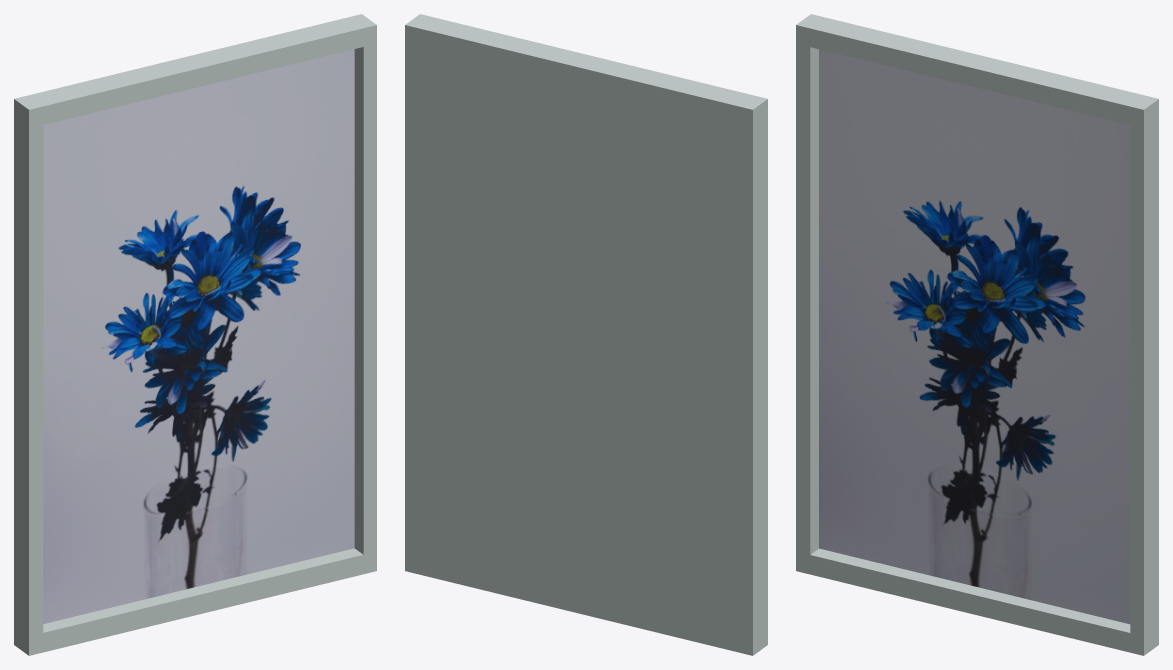
File: kikuno.glb
3 views of the same model, side by side, from view 1: azimuth 30°, elevation 25°; view 2: azimuth 150°, elevation 25°; view 3: azimuth 330°, elevation 25° (orthographic).
Visible parts, largest first — view 1: PAINTING; view 2: PAINTING; view 3: PAINTING.
Boxes of the visible parts, x1=… form: PAINTING: x1=14, y1=14, x2=376, y2=655; PAINTING: x1=405, y1=14, x2=767, y2=655; PAINTING: x1=796, y1=14, x2=1158, y2=655.
Size of the model in its own units: 0.6 by 0.9 by 0.045.
Materials: 2 (1 with a texture image).
